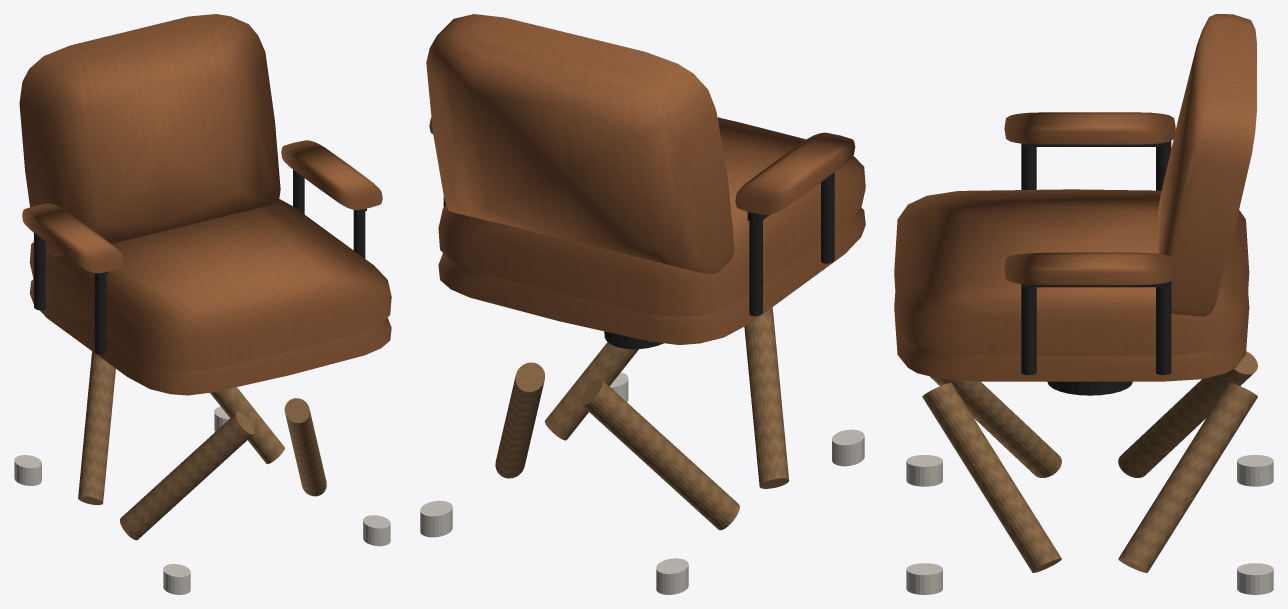
3 views of the same model, side by side, from view 1: azimuth 30°, elevation 25°; view 2: azimuth 150°, elevation 25°; view 3: azimuth 270°, elevation 25° (orthographic). The views are drawn at different scales.
Parts seen in each view (by area): view 1: 1 backrest, 2 seat, 3 seat_base, 14 leg_front_left, 16 leg_back_left, 4 armrest_pad_left, 5 armrest_pad_right, 15 leg_front_right, 17 leg_back_right, 6 armrest_frame_left_front, 7 armrest_frame_left_back, 19 foot_cap_front_right (+3 smaller); view 2: 1 backrest, 2 seat, 3 seat_base, 16 leg_back_left, 14 leg_front_left, 4 armrest_pad_left, 17 leg_back_right, 15 leg_front_right, 7 armrest_frame_left_back, 6 armrest_frame_left_front, 20 foot_cap_back_left, 18 foot_cap_front_left (+2 smaller); view 3: 2 seat, 1 backrest, 3 seat_base, 15 leg_front_right, 17 leg_back_right, 5 armrest_pad_right, 4 armrest_pad_left, 16 leg_back_left, 14 leg_front_left, 10 armrest_frame_right_back, 9 armrest_frame_right_front, 18 foot_cap_front_left (+6 smaller).
Part boxes in pixels (x1=…): 1 backrest: x1=19, y1=14, x2=280, y2=256; 2 seat: x1=29, y1=199, x2=391, y2=371; 3 seat_base: x1=29, y1=279, x2=391, y2=395; 14 leg_front_left: x1=120, y1=412, x2=254, y2=540; 16 leg_back_left: x1=78, y1=351, x2=115, y2=505; 4 armrest_pad_left: x1=22, y1=203, x2=123, y2=273; 5 armrest_pad_right: x1=281, y1=140, x2=382, y2=210; 15 leg_front_right: x1=284, y1=398, x2=326, y2=496; 17 leg_back_right: x1=210, y1=387, x2=284, y2=464; 6 armrest_frame_left_front: x1=94, y1=272, x2=106, y2=354; 7 armrest_frame_left_back: x1=34, y1=233, x2=45, y2=310; 19 foot_cap_front_right: x1=363, y1=515, x2=390, y2=546; 1 backrest: x1=426, y1=14, x2=734, y2=274; 2 seat: x1=438, y1=117, x2=865, y2=316; 3 seat_base: x1=438, y1=208, x2=865, y2=344; 16 leg_back_left: x1=580, y1=379, x2=739, y2=530; 14 leg_front_left: x1=744, y1=307, x2=789, y2=488; 4 armrest_pad_left: x1=735, y1=132, x2=855, y2=215; 17 leg_back_right: x1=495, y1=362, x2=544, y2=478; 15 leg_front_right: x1=544, y1=342, x2=638, y2=440; 7 armrest_frame_left_back: x1=749, y1=212, x2=762, y2=316; 6 armrest_frame_left_front: x1=821, y1=172, x2=834, y2=263; 20 foot_cap_back_left: x1=656, y1=558, x2=688, y2=594; 18 foot_cap_front_left: x1=832, y1=429, x2=864, y2=466; 2 seat: x1=894, y1=189, x2=1249, y2=356; 1 backrest: x1=1158, y1=14, x2=1256, y2=316; 3 seat_base: x1=894, y1=292, x2=1249, y2=381; 15 leg_front_right: x1=922, y1=383, x2=1061, y2=572; 17 leg_back_right: x1=1118, y1=383, x2=1257, y2=572; 5 armrest_pad_right: x1=1004, y1=252, x2=1175, y2=285; 4 armrest_pad_left: x1=1004, y1=112, x2=1175, y2=144; 16 leg_back_left: x1=1118, y1=351, x2=1257, y2=477; 14 leg_front_left: x1=930, y1=376, x2=1061, y2=477; 10 armrest_frame_right_back: x1=1156, y1=281, x2=1171, y2=375; 9 armrest_frame_right_front: x1=1021, y1=284, x2=1036, y2=375; 18 foot_cap_front_left: x1=906, y1=455, x2=942, y2=486.
Size of the model in its own units: 0.72 by 1 by 0.72.
4 materials, 2 textured.
